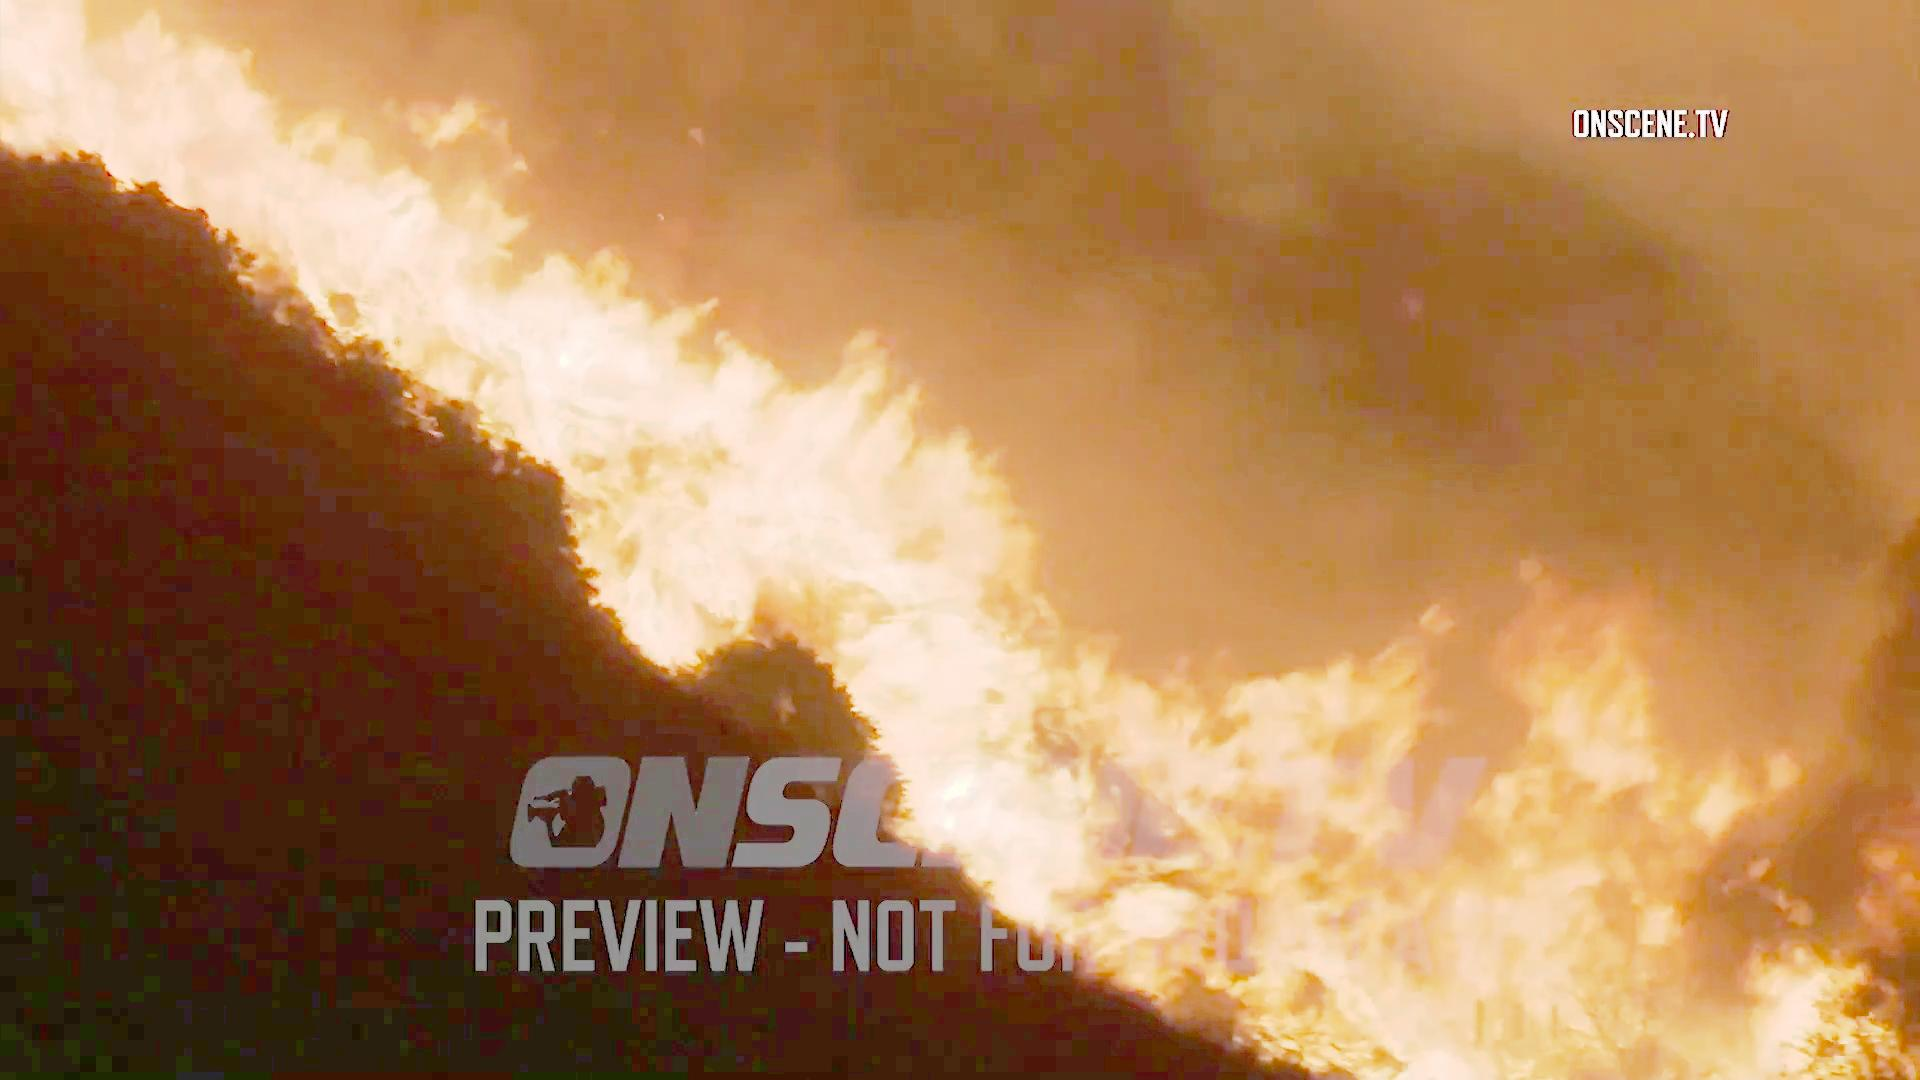fire: (1155, 588, 1920, 1080), (597, 253, 1009, 691), (0, 0, 454, 309)
